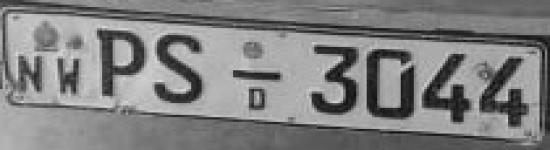-: (228, 66, 286, 84)
0: (364, 46, 421, 124)
3: (303, 39, 361, 119)
4: (477, 54, 534, 132), (422, 49, 476, 127)
N: (12, 50, 48, 98)
P: (93, 25, 152, 104)
S: (152, 31, 213, 108)
W: (54, 51, 86, 102)
